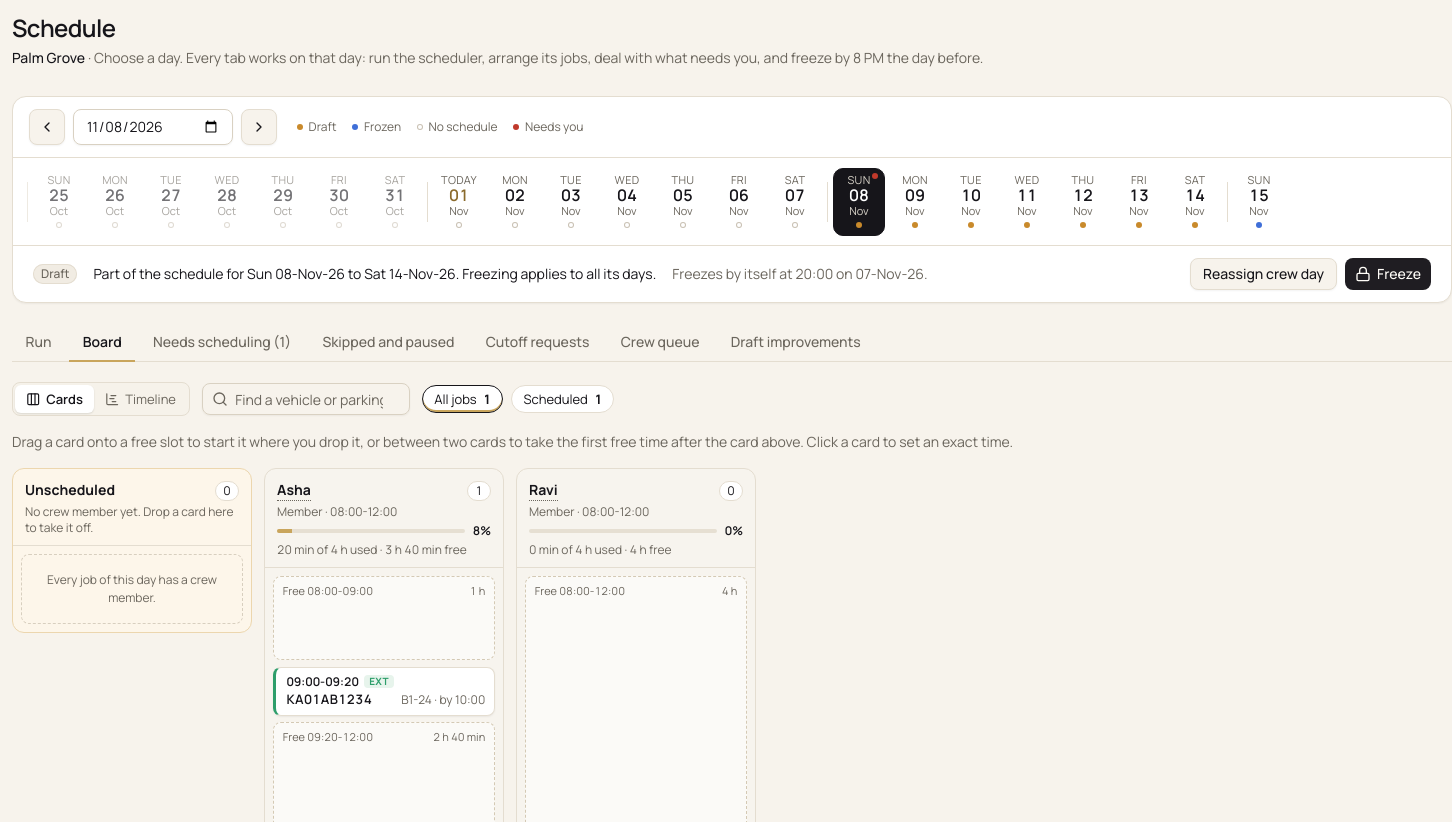
Test: the chosen day leads the page (ADM-SCH-35) › shows the days with their schedule status and moves the whole page to the day chosen
The image size is (1452, 822).
Expected: the text "Part of the schedule for Sun 08-Nov-26 to Sat 14-Nov-26" is shown, [94,264,656,283]
Expected: the button "Freeze" is shown, [1345,258,1431,290]
Click the button with aria-label "Sun 15-Nov-26, Frozen". click: [1259, 202]
box: [1233,168,1285,236]
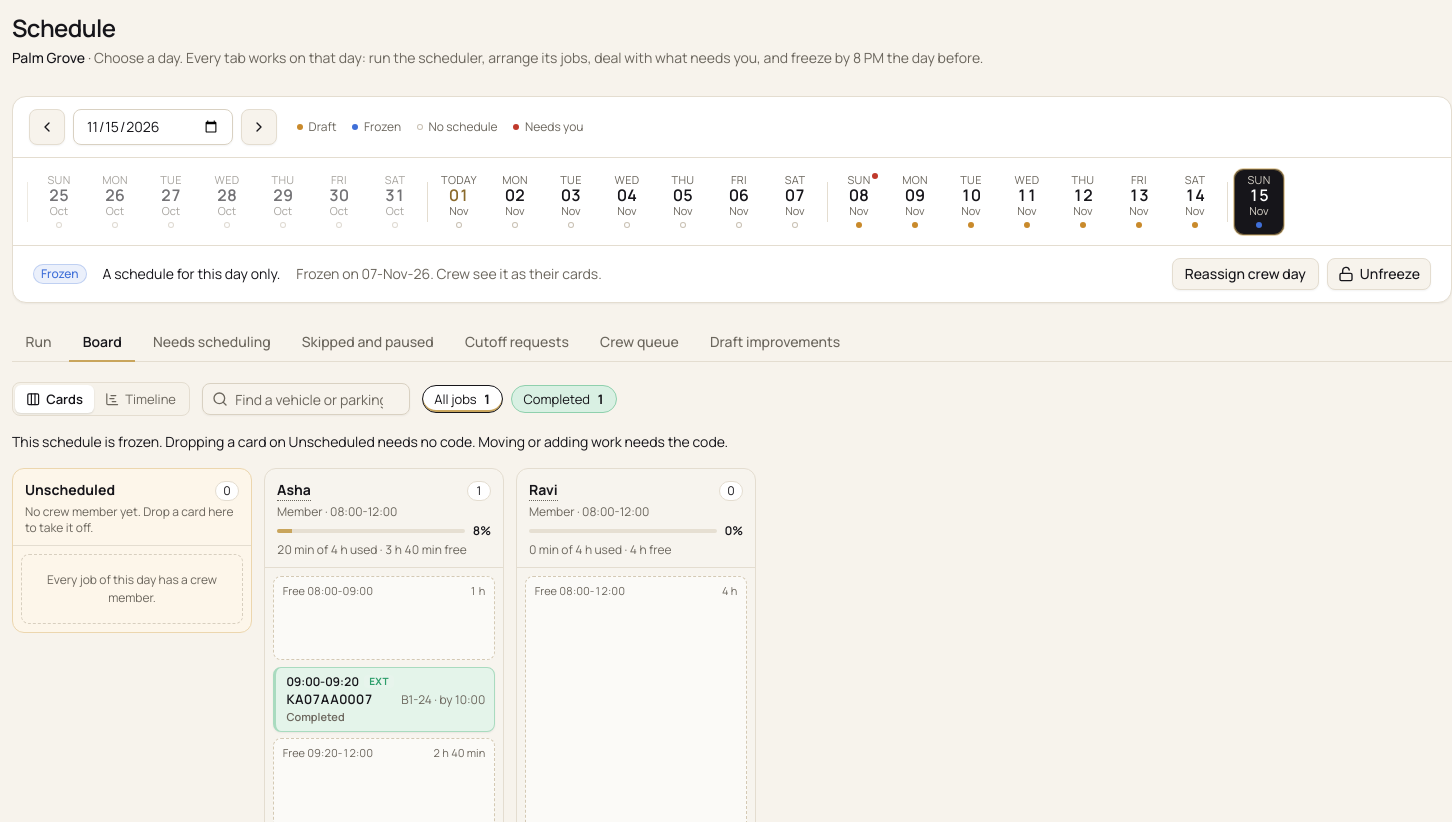
Expected: the button "09:00-09:20 EXT KA07AA0007 B1-24 · by 10:00 Completed" is shown, [273,667,495,732]
Expected: the button "KA01AB1234" is gone
Expected: the text "A schedule for this day only." is shown, [102,264,280,284]
